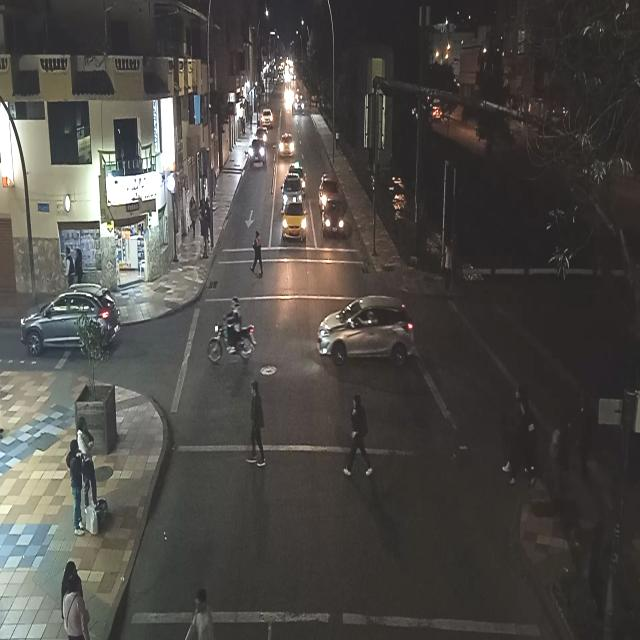MOTORCYCLE: (207, 324, 252, 366)
SED: (282, 202, 305, 240), (323, 202, 344, 235)
SUV: (22, 292, 119, 355), (316, 298, 411, 359), (282, 172, 304, 201), (250, 140, 265, 163), (264, 109, 274, 126)
